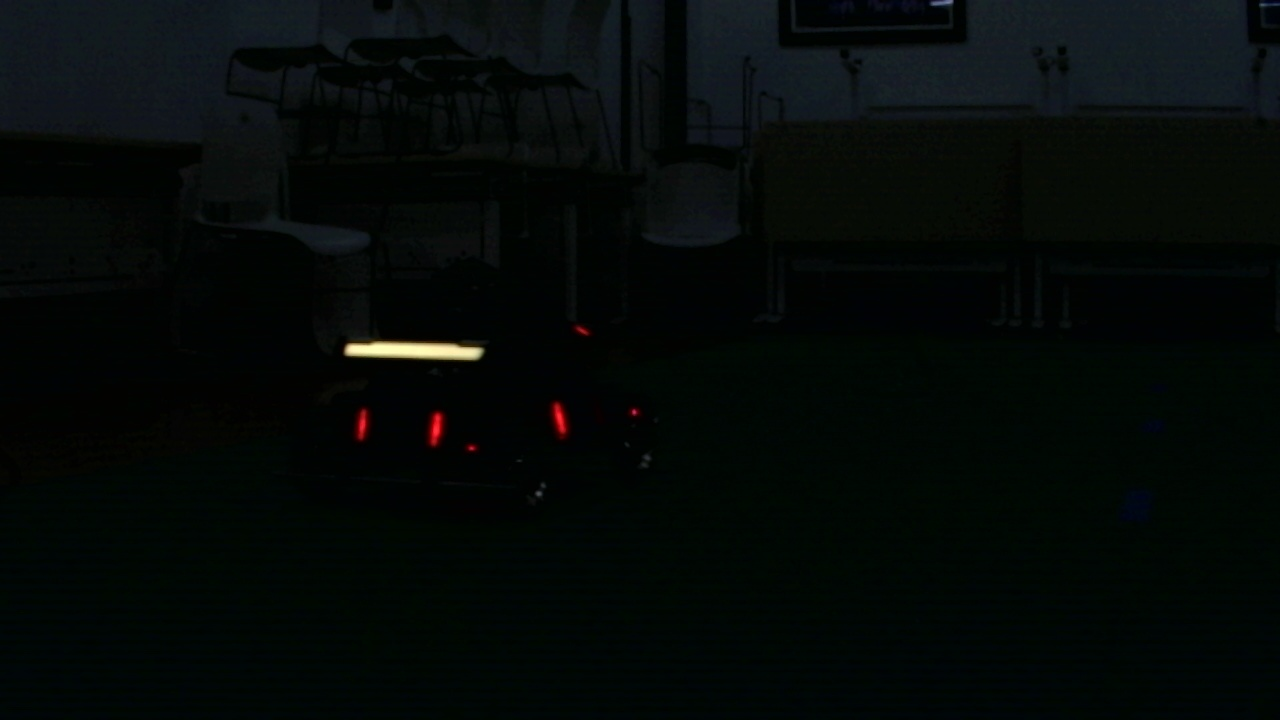lamp: (546, 398, 567, 433), (426, 413, 446, 447), (353, 405, 371, 442)
pair1: (355, 408, 439, 446)
